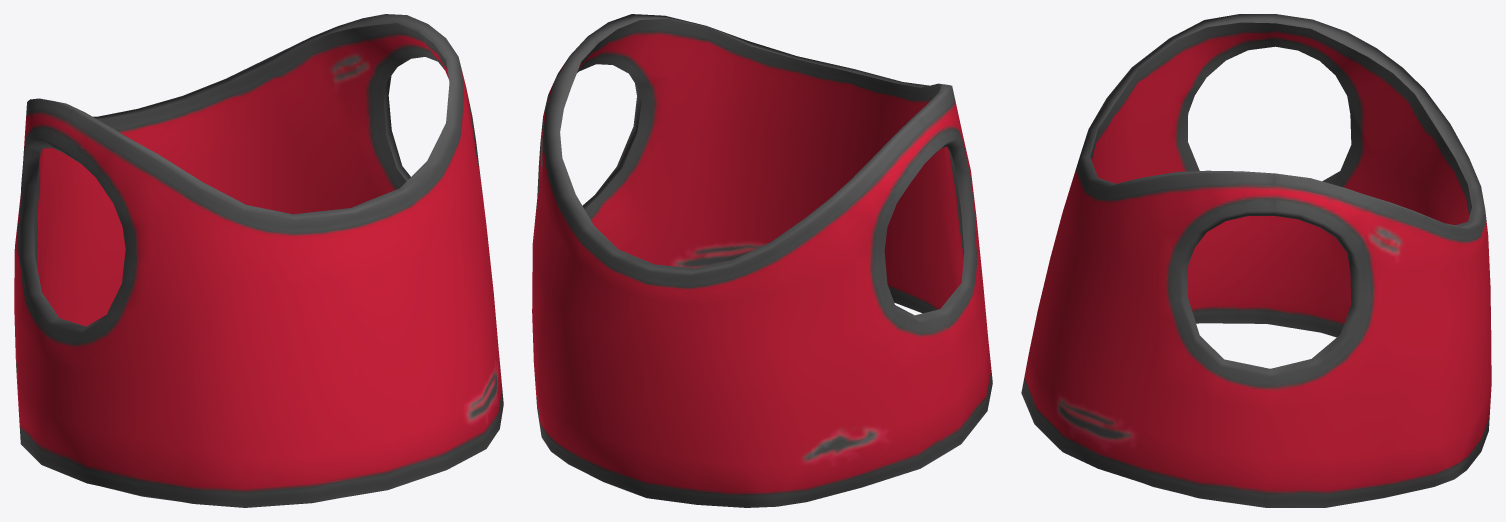
The model's file is IG_Armor_Football_2.fbx.
3 renders of one model, left to right at view 1: azimuth 30°, elevation 25°; view 2: azimuth 150°, elevation 25°; view 3: azimuth 270°, elevation 25°, orthographic. The views are drawn at different scales.
Parts seen in each view (by area): view 1: FootballDuo_2_Clothes; view 2: FootballDuo_2_Clothes; view 3: FootballDuo_2_Clothes.
Part boxes in pixels (x1=…): FootballDuo_2_Clothes: x1=14, y1=14, x2=503, y2=507; FootballDuo_2_Clothes: x1=532, y1=14, x2=992, y2=507; FootballDuo_2_Clothes: x1=1021, y1=14, x2=1491, y2=507.
Size of the model in its own units: 0.6564 by 0.5371 by 0.6718.
